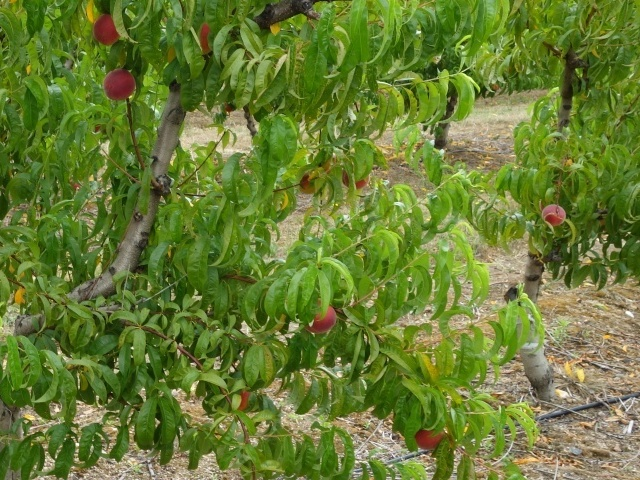peach: (300, 296, 340, 337), (98, 65, 139, 103), (88, 9, 126, 48), (411, 420, 447, 456), (339, 164, 369, 197), (538, 200, 570, 228)
